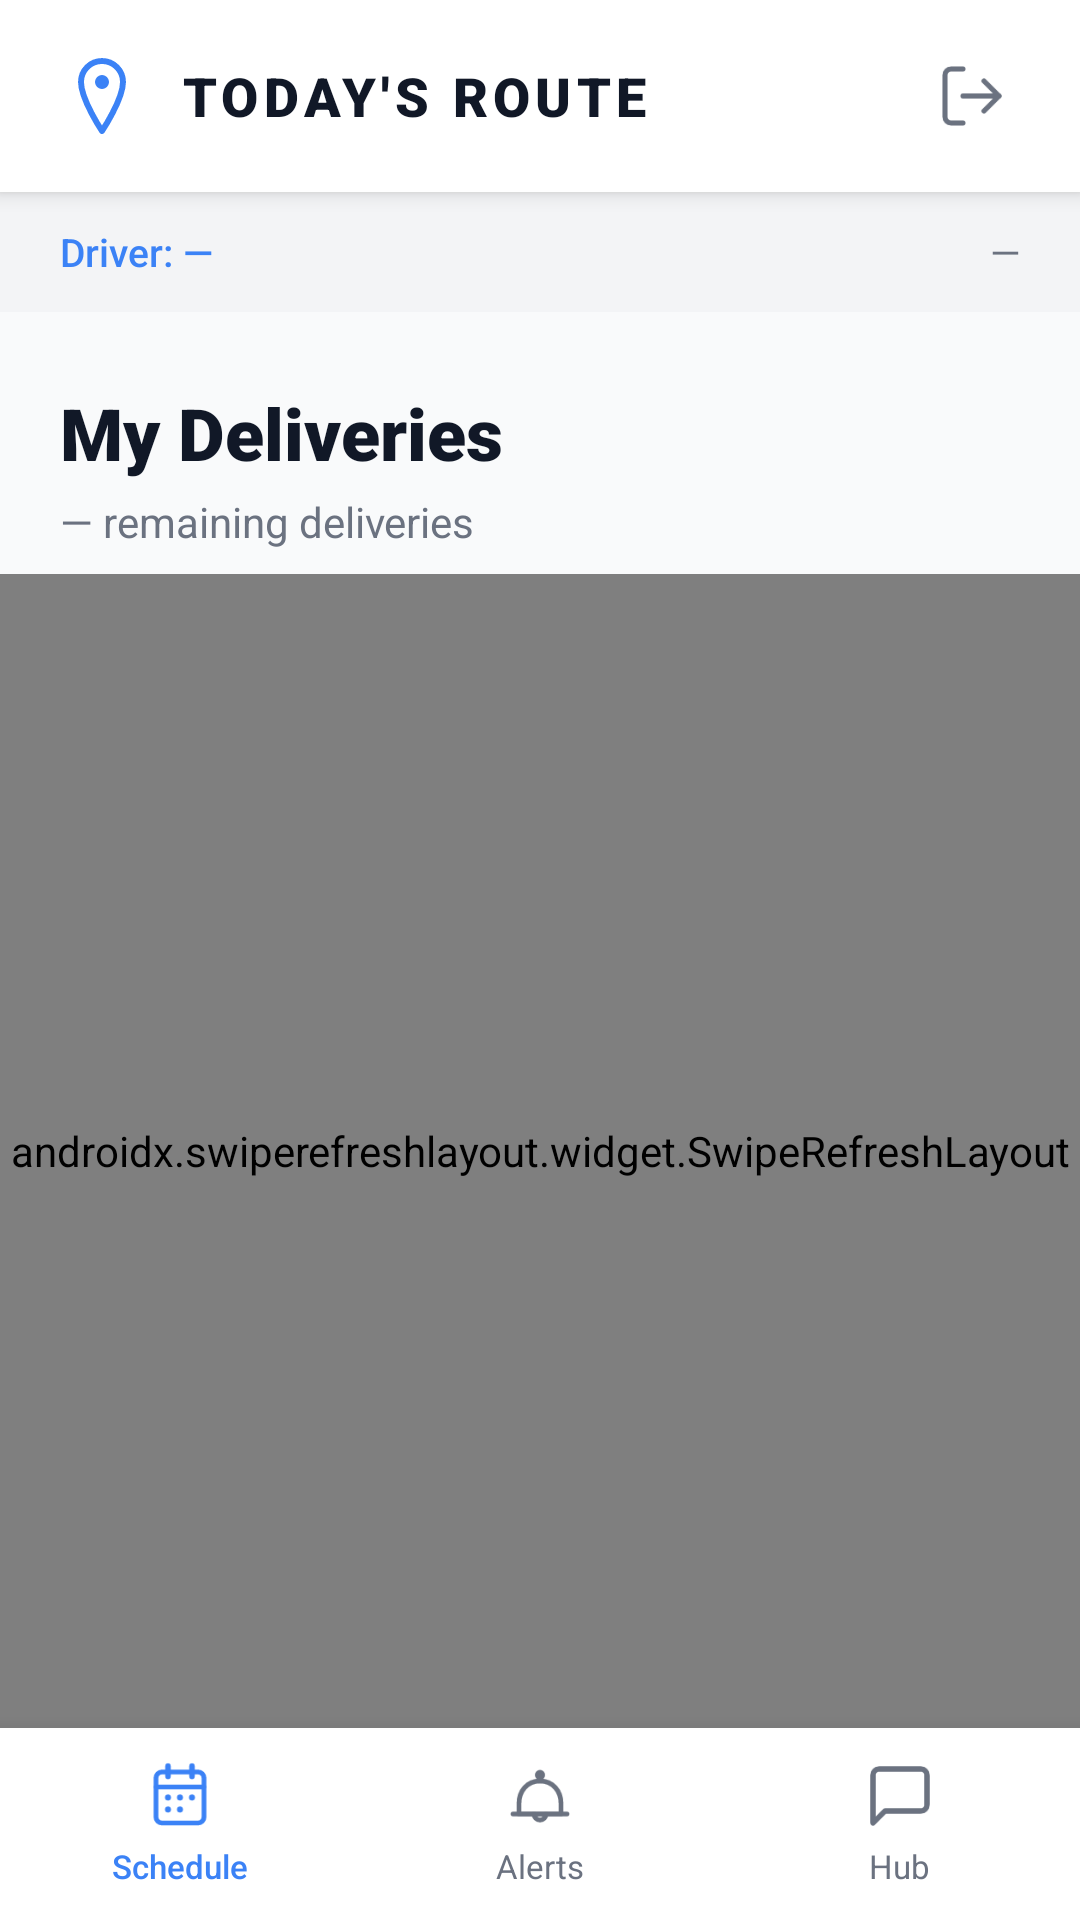

Screen size 1080 × 1920. Icon name, then its center in pixels as (x,y):
bell: (540,1796)
calendar: (180,1794)
